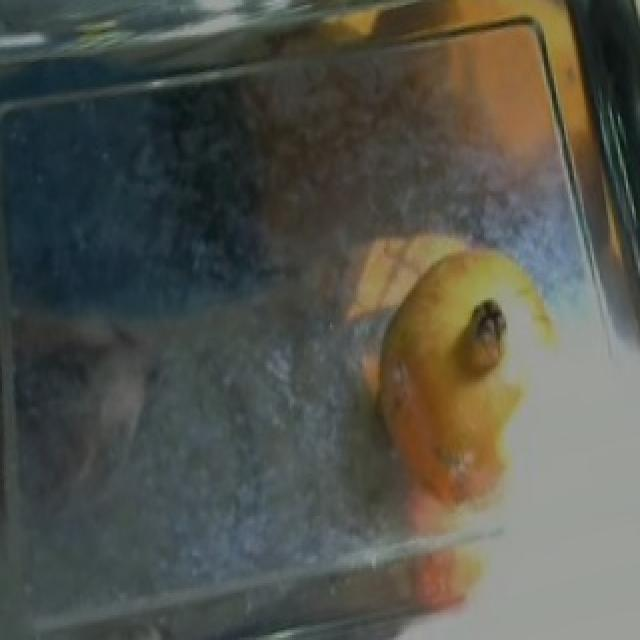fruit: (364, 221, 584, 417)
